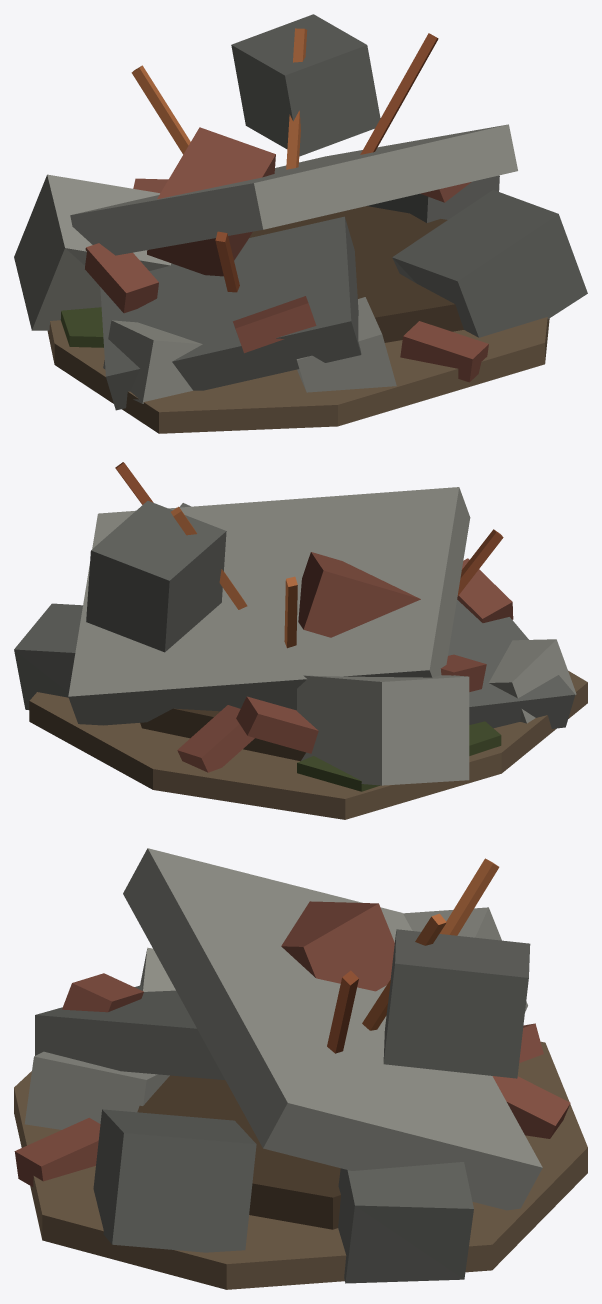
Rendered from rubble.glb.
3 views of the same model, one above another, from view 1: azimuth 30°, elevation 25°; view 2: azimuth 150°, elevation 25°; view 3: azimuth 270°, elevation 25° (orthographic). The views are drawn at different scales.
Parts seen in each view (by area): view 1: rubble_mesh; view 2: rubble_mesh; view 3: rubble_mesh.
Boxes of the visible parts, <box> form: rubble_mesh: <box>14,14,587,433</box>; rubble_mesh: <box>14,462,587,819</box>; rubble_mesh: <box>14,848,587,1289</box>.
Bounding box in the file's own units: 1.81 × 0.87 × 1.62.
